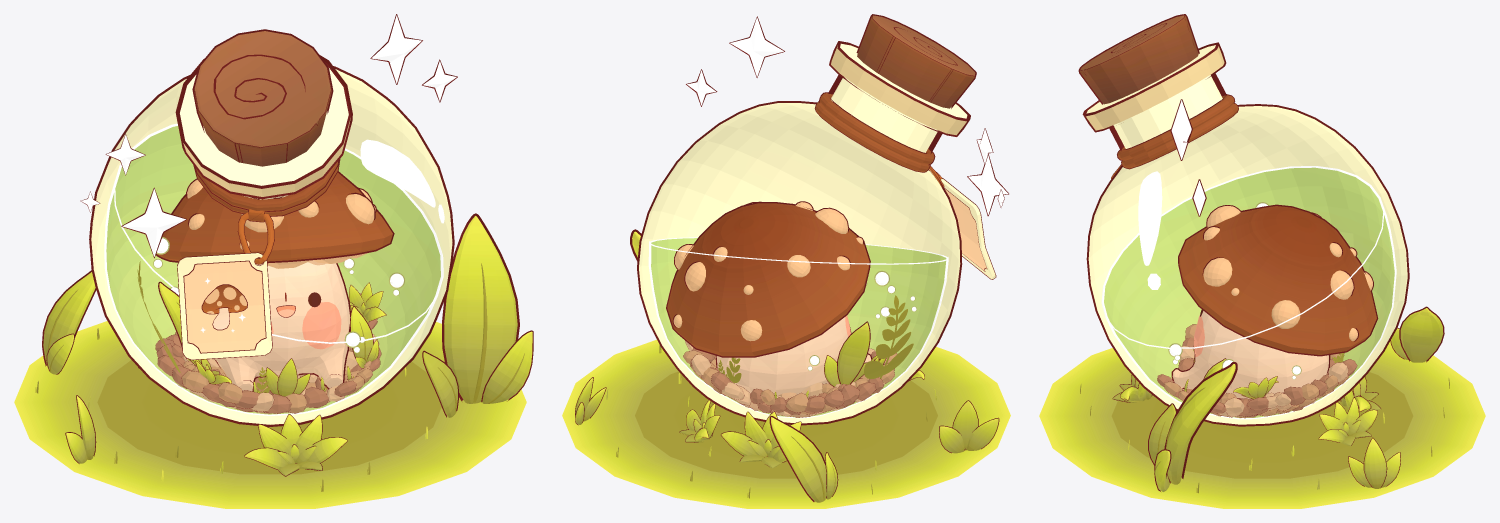
Rendered from potion-transformed.glb.
3 renders of one model, left to right at view 1: azimuth 30°, elevation 25°; view 2: azimuth 150°, elevation 25°; view 3: azimuth 270°, elevation 25°, orthographic. The views are drawn at different scales.
Visible parts, largest first — view 1: Base_2_Mushroom_0; view 2: Base_2_Mushroom_0; view 3: Base_2_Mushroom_0.
Boxes of the visible parts, x1,y1,x2,y2 form: Base_2_Mushroom_0: [14, 14, 533, 508]; Base_2_Mushroom_0: [562, 14, 1010, 508]; Base_2_Mushroom_0: [1039, 14, 1485, 508].
Size of the model in its own units: 8.06 by 7.52 by 8.08.
1 material, 1 textured.
